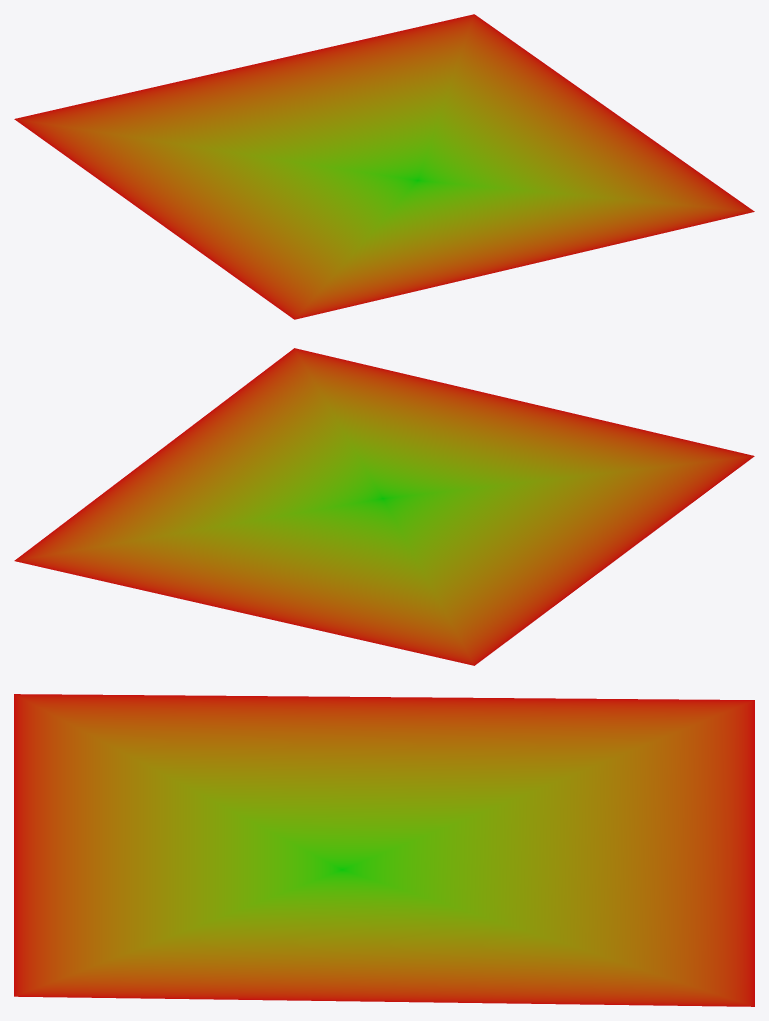
File: Mile-a-minute Vine_LOD3_Var3_sfqns.fbx
3 renders of one model, top to bottom at view 1: azimuth 30°, elevation 25°; view 2: azimuth 150°, elevation 25°; view 3: azimuth 270°, elevation 25°, orthographic. The views are drawn at different scales.
Parts seen in each view (by area): view 1: _3c27_Var3_LOD3; view 2: _3c27_Var3_LOD3; view 3: _3c27_Var3_LOD3.
Part boxes in pixels (x1,y1,x2,y2): _3c27_Var3_LOD3: [14, 14, 754, 319]; _3c27_Var3_LOD3: [14, 348, 754, 665]; _3c27_Var3_LOD3: [14, 694, 754, 1006].
Bounding box in the file's own units: 33.51 × 0.8445 × 35.35.
